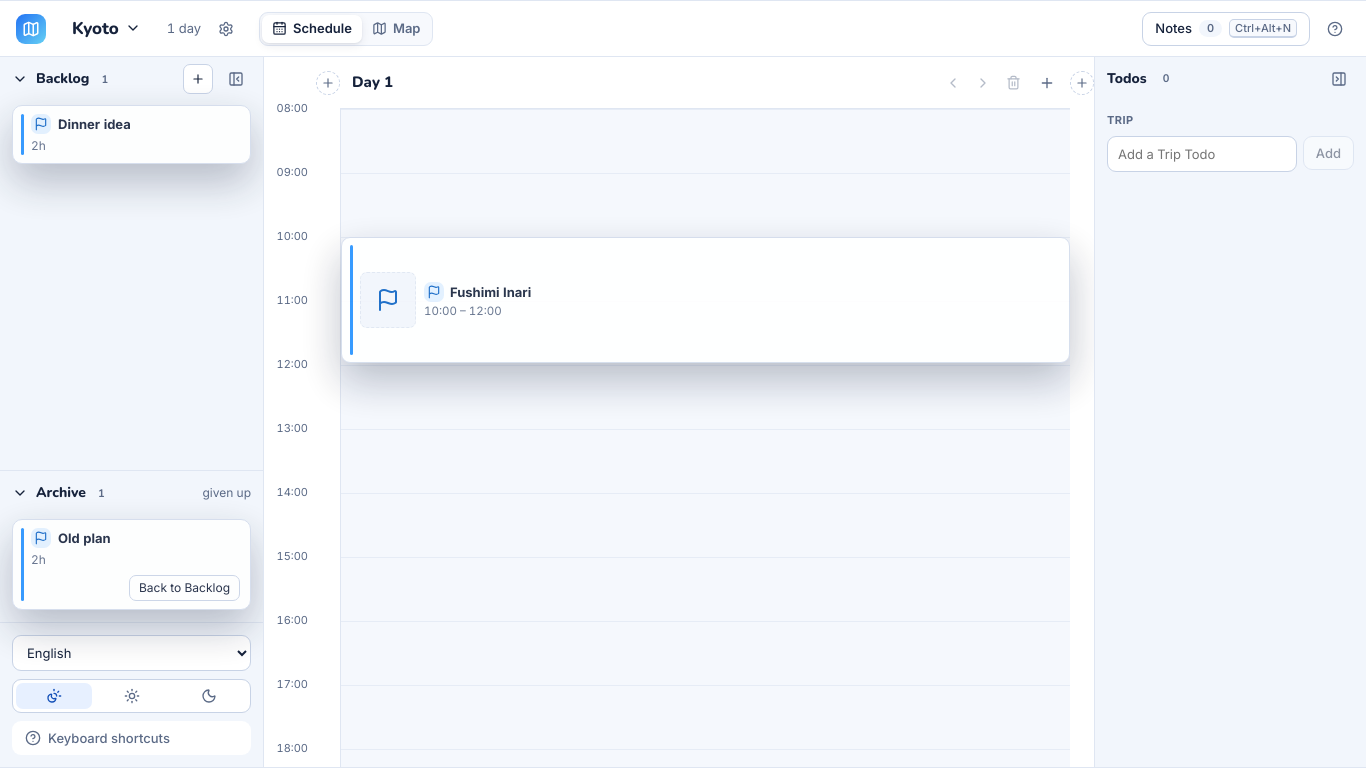
Test case: collapsible side panels › collapses and reopens the Backlog and Archive, and keeps the choice
This screenshot has width=1366, height=768.
Click the 1st button named "Collapse panel" at (236, 79), box x1=221 y1=64 x2=251 y2=94
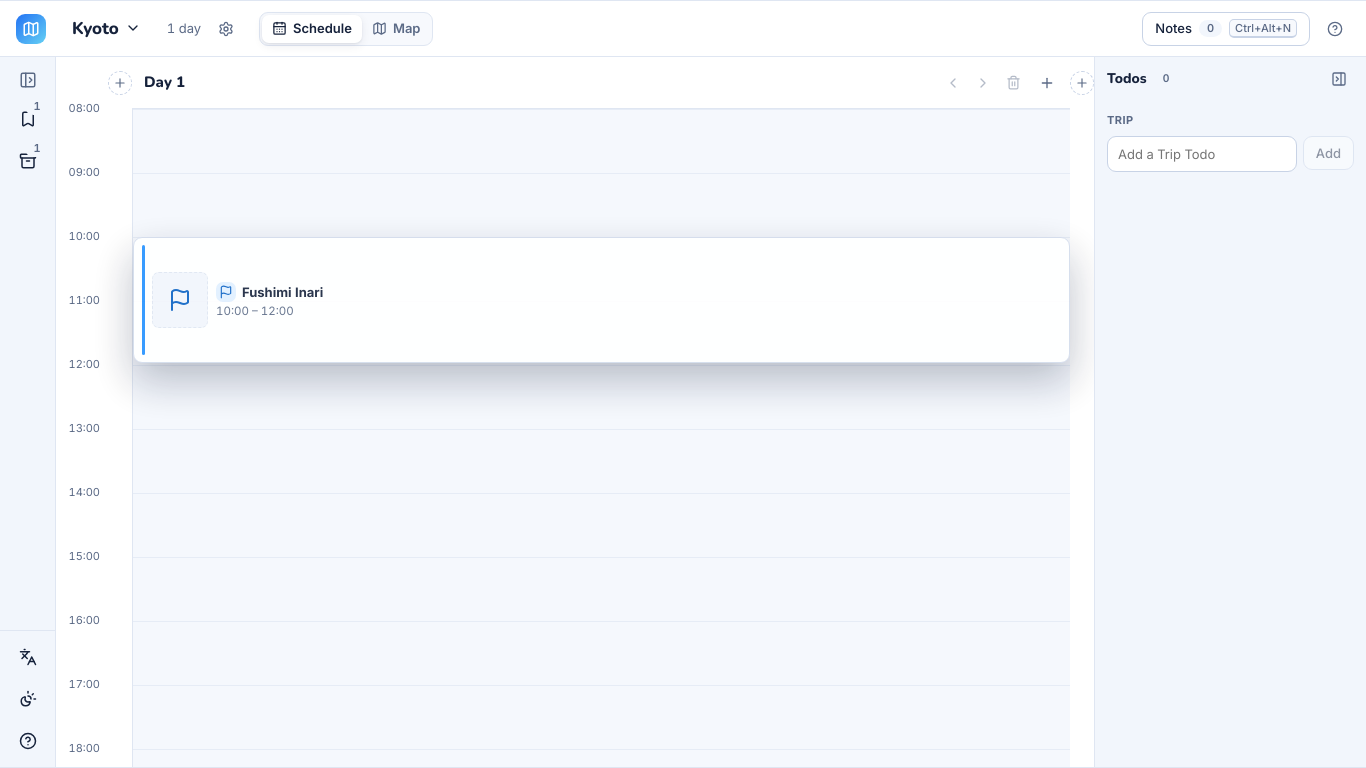
Expected: the button "Dinner idea" is gone
Click the button named "Backlog 1" at (28, 119), box x1=10 y1=101 x2=46 y2=137
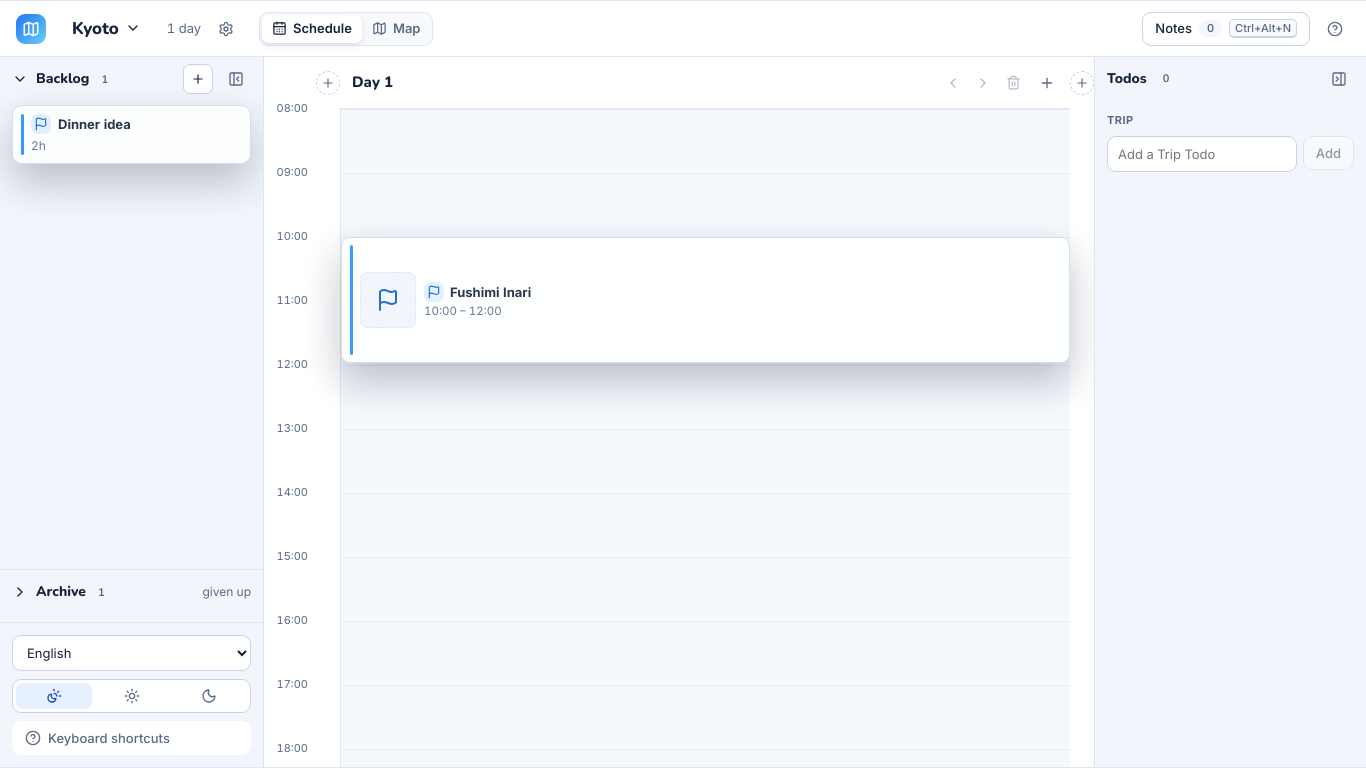
Expected: the text "Dinner idea" is shown, x1=31 y1=114 x2=131 y2=134
